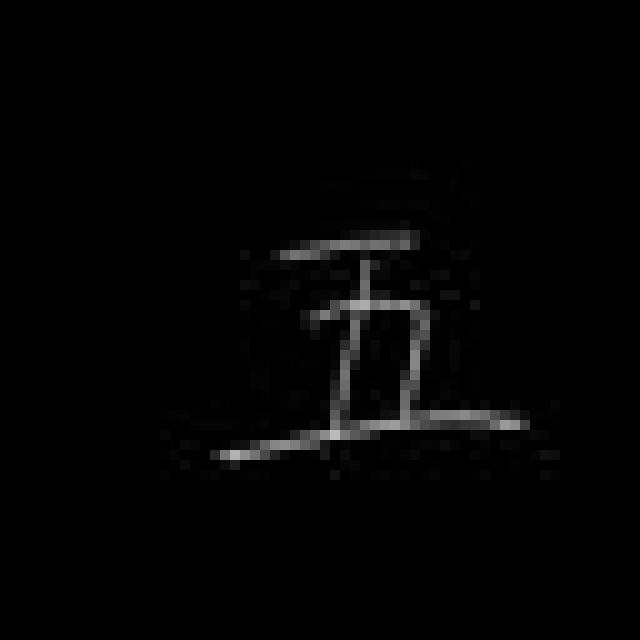5 -five-: (206, 222, 537, 478)
